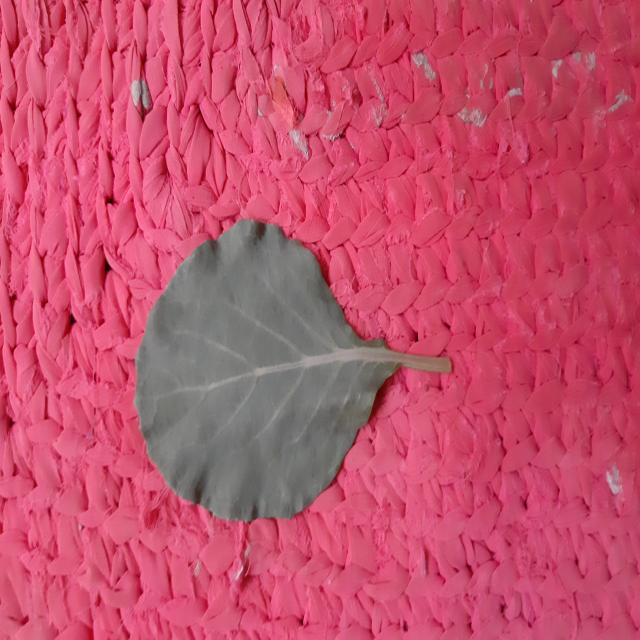Kohlrabi: (135, 220, 451, 522)
